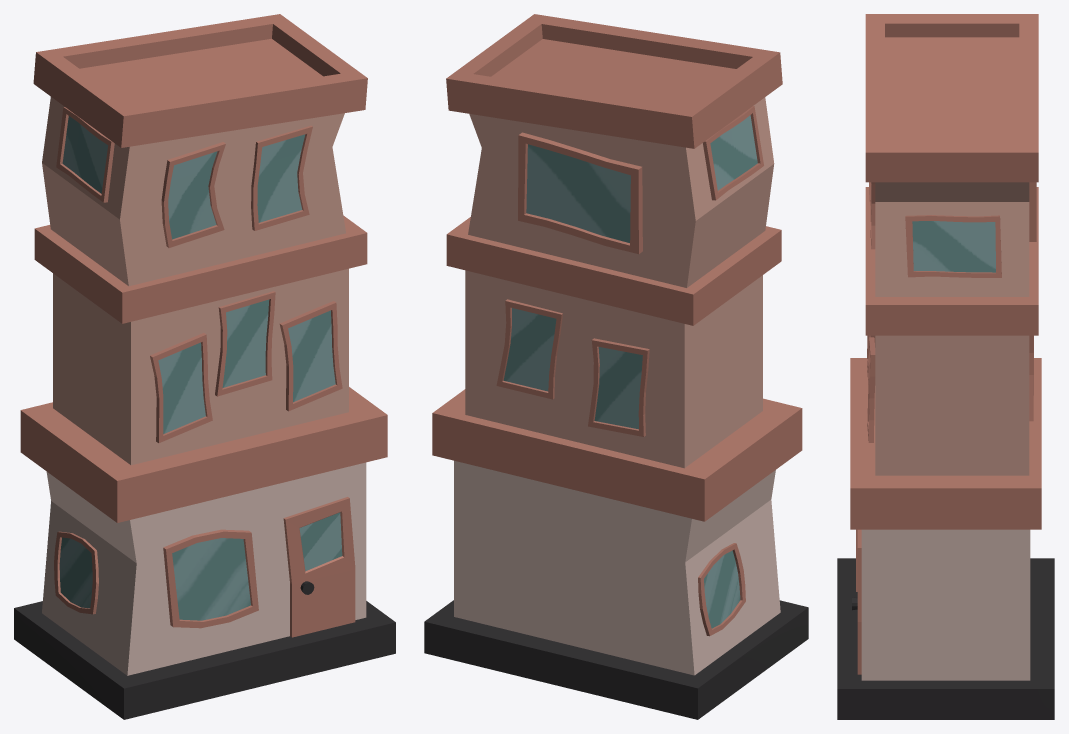
The model's file is SM_Apartments.fbx.
The picture shows the model from 3 angles, left to right: view 1: azimuth 30°, elevation 25°; view 2: azimuth 150°, elevation 25°; view 3: azimuth 270°, elevation 25°; orthographic projection. The views are drawn at different scales.
Visible parts, largest first — view 1: building, Cube.001; view 2: building, Cube.001; view 3: building, Cube.001.
Boxes of the visible parts, x1,y1,x2,y2 form: building: [20, 14, 387, 675]; Cube.001: [14, 601, 395, 719]; building: [432, 14, 802, 675]; Cube.001: [424, 600, 808, 719]; building: [850, 14, 1041, 680]; Cube.001: [837, 558, 1054, 719].
Bounding box in the file's own units: 367 × 760 × 257.
